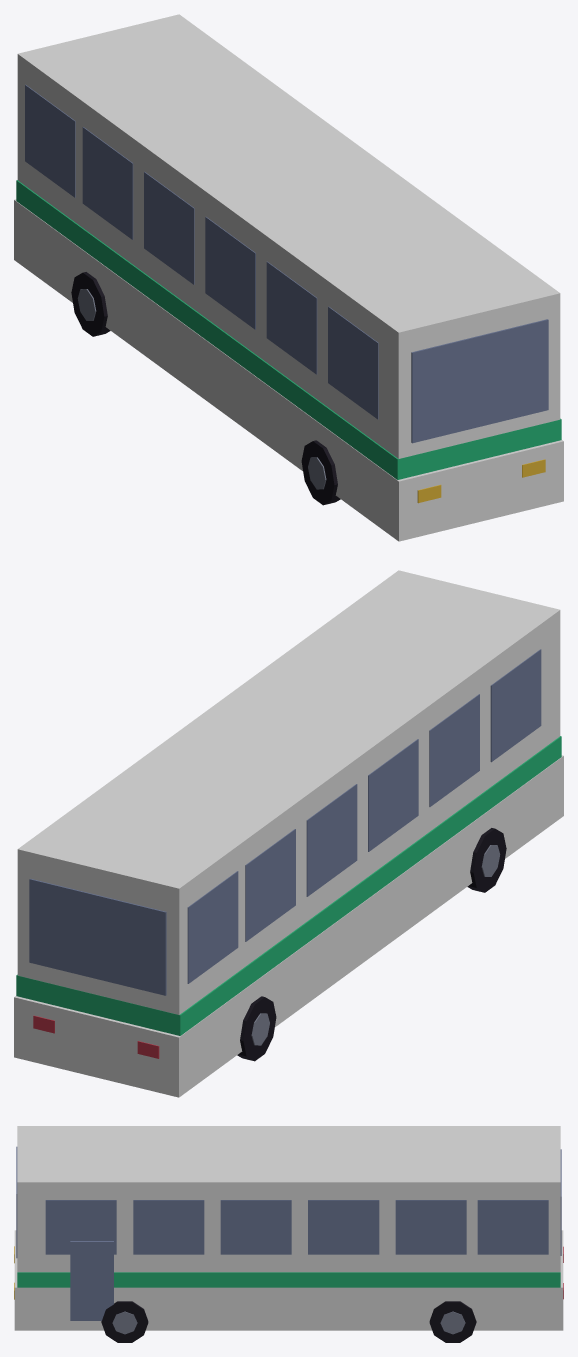
Rendered from SCR_Bus.fbx.
3 renders of one model, top to bottom at view 1: azimuth 30°, elevation 25°; view 2: azimuth 150°, elevation 25°; view 3: azimuth 270°, elevation 25°, orthographic. The views are drawn at different scales.
Parts seen in each view (by area): view 1: SCR_Bus_Body_Outline, SCR_Bus_Details; view 2: SCR_Bus_Body_Outline, SCR_Bus_Details; view 3: SCR_Bus_Body_Outline, SCR_Bus_Details.
Part boxes in pixels (box(x1,y1,x2,y2)): SCR_Bus_Body_Outline: box(14, 14, 563, 541); SCR_Bus_Details: box(16, 84, 561, 505); SCR_Bus_Body_Outline: box(14, 570, 563, 1097); SCR_Bus_Details: box(16, 649, 561, 1061); SCR_Bus_Body_Outline: box(14, 1126, 563, 1330); SCR_Bus_Details: box(14, 1146, 563, 1342).
Bounding box in the file's own units: 263 × 321 × 1006.
